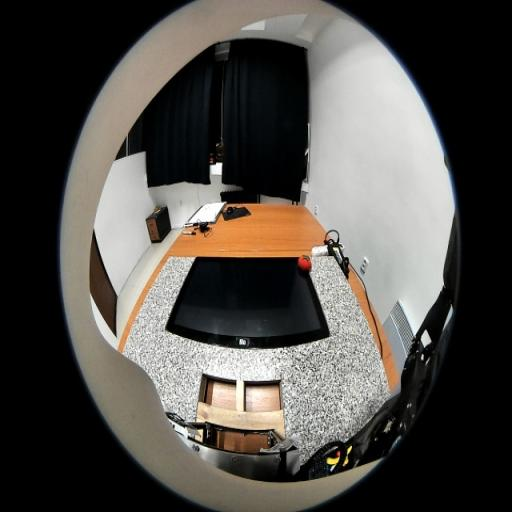Tomato: (298, 254, 312, 270)
